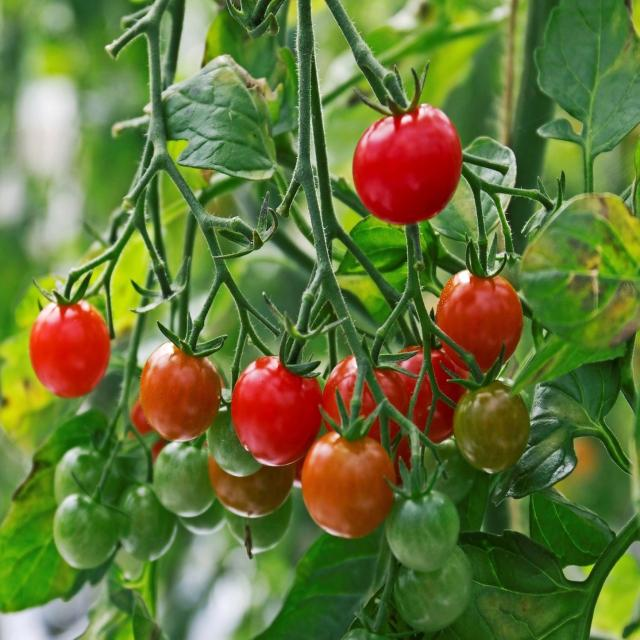level 1: (456, 378, 531, 474), (393, 536, 467, 632), (384, 486, 461, 569), (115, 486, 177, 560)
level 2: (217, 456, 293, 553), (205, 376, 279, 475), (52, 494, 116, 574), (54, 448, 125, 520), (151, 440, 217, 517)
level 5: (302, 433, 399, 539), (142, 339, 221, 440)
level 6: (354, 101, 462, 226), (232, 357, 326, 467), (319, 356, 406, 456), (28, 297, 110, 402), (438, 269, 522, 368), (390, 352, 463, 446)
